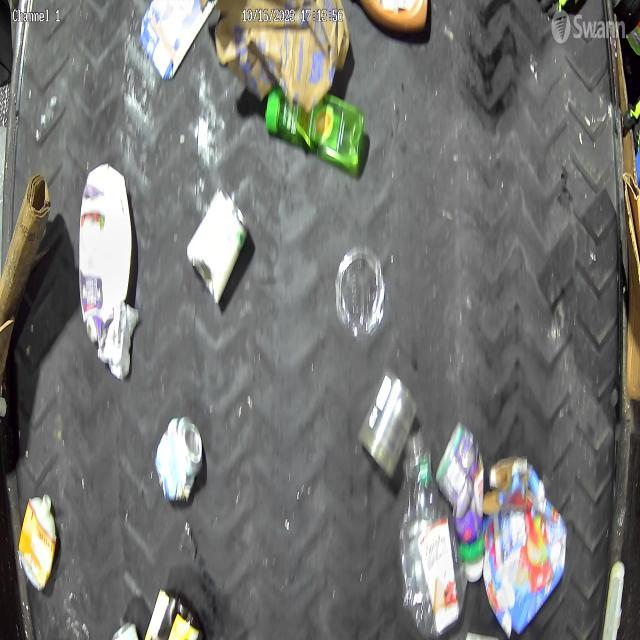can: (188, 183, 250, 310), (356, 376, 416, 479), (152, 404, 208, 506), (438, 422, 486, 540)
milk_jug: (72, 162, 136, 346)
plastic_bottle: (402, 434, 465, 640)
